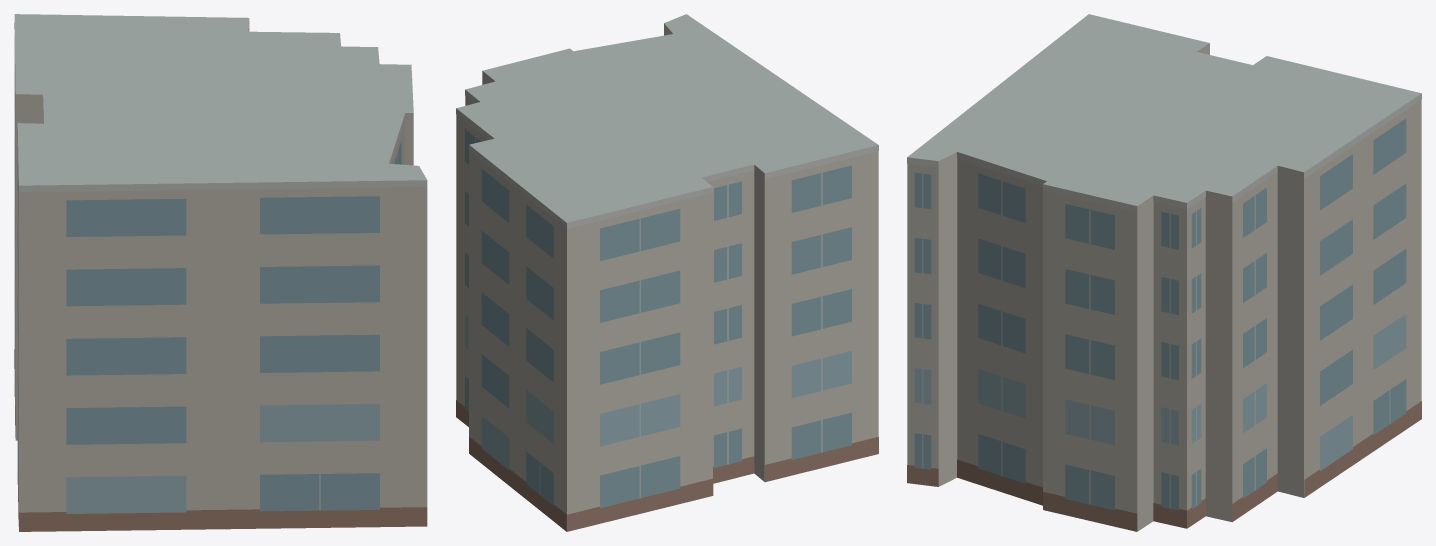
The model's file is survey-upis-32646924.glb.
3 views of the same model, side by side, from view 1: azimuth 30°, elevation 25°; view 2: azimuth 150°, elevation 25°; view 3: azimuth 270°, elevation 25° (orthographic). The views are drawn at different scales.
Parts seen in each view (by area): view 1: survey-upis-32646924.tmp; view 2: survey-upis-32646924.tmp; view 3: survey-upis-32646924.tmp.
Boxes of the visible parts, box(x1,y1,x2,y2) form: survey-upis-32646924.tmp: box(14, 14, 427, 531); survey-upis-32646924.tmp: box(456, 14, 878, 531); survey-upis-32646924.tmp: box(907, 14, 1421, 531).
Bounding box in the file's own units: 15.79 × 12.48 × 17.88.
